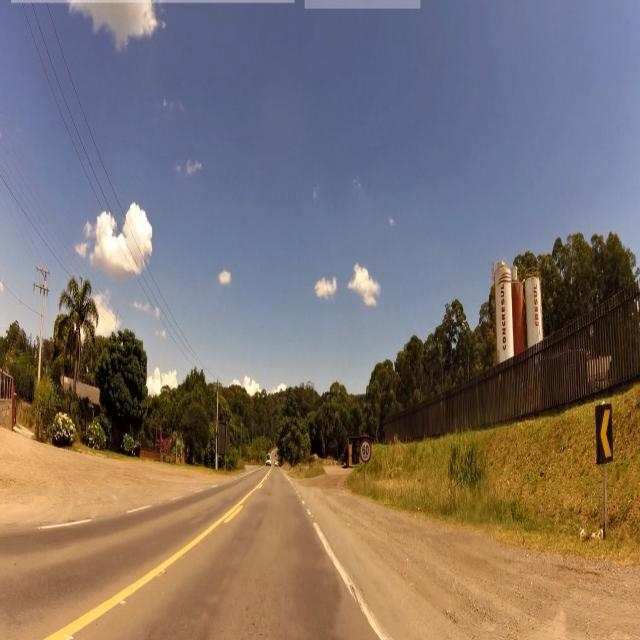Del: (595, 405, 616, 465)
R-19: (360, 439, 372, 466)
